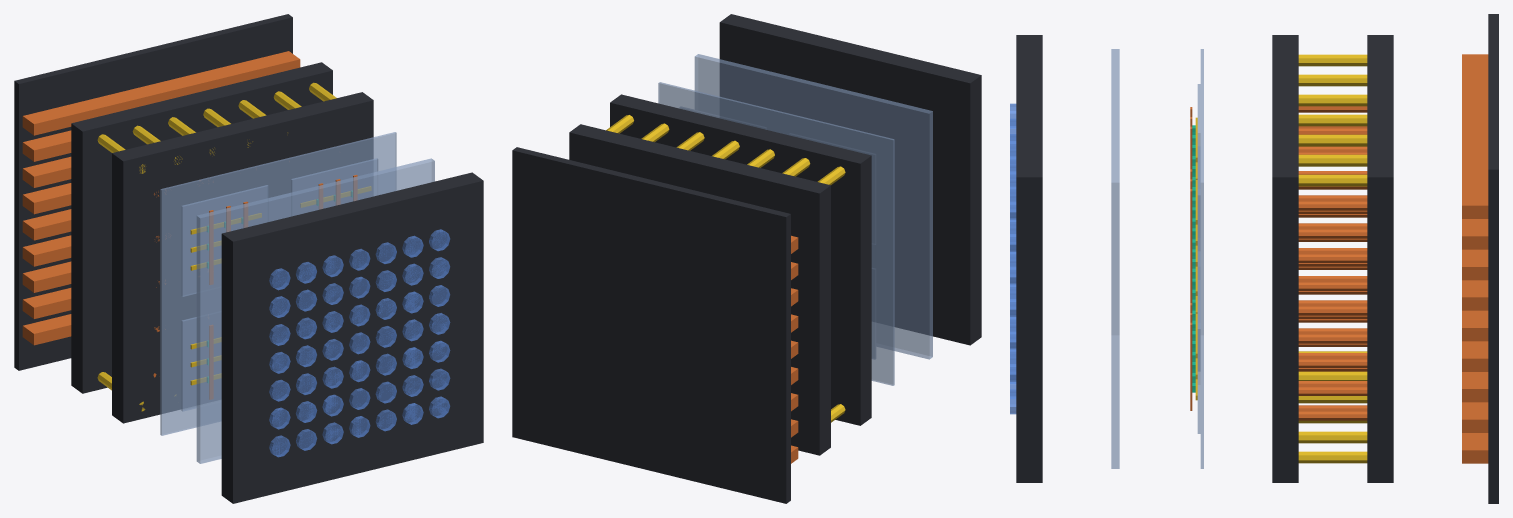
File: neurostack_model.obj
3 renders of one model, left to right at view 1: azimuth 30°, elevation 25°; view 2: azimuth 150°, elevation 25°; view 3: azimuth 270°, elevation 25°, orthographic. The views are drawn at different scales.
Parts seen in each view (by area): view 1: Tier0_DVS_Sensor_Die, Tier2_Soma_Logic_Die, Tier3_AER_Deflection_Router_Die, AlN_Thermal_Spreader_Plate, Base_Silicon_Carrier, Interface_HybridBonding, Cooling_Fin_4, SubMat_Bed_3, SubMat_Bed_1, SubMat_Bed_4, Cooling_Fin_-1, Cooling_Fin_0 (+6 smaller); view 2: Base_Silicon_Carrier, Tier0_DVS_Sensor_Die, Interface_HybridBonding, Tier3_AER_Deflection_Router_Die, Tier2_Soma_Logic_Die, AlN_Thermal_Spreader_Plate, SubMat_Bed_3; view 3: Tier3_AER_Deflection_Router_Die, Tier2_Soma_Logic_Die, Tier0_DVS_Sensor_Die, Base_Silicon_Carrier, Cooling_Fin_4, Interface_HybridBonding, AlN_Thermal_Spreader_Plate, TRV_Thermal_Via_Y1_1, TRV_Thermal_Via_Y1_2, TRV_Thermal_Via_Y1_3, TRV_Thermal_Via_Y1_-3, TRV_Thermal_Via_Y1_-2 (+25 smaller).
Part boxes in pixels (x1,y1,x2,y2): Tier0_DVS_Sensor_Die: [221, 172, 483, 503]; Tier2_Soma_Logic_Die: [112, 92, 373, 423]; Tier3_AER_Deflection_Router_Die: [71, 62, 332, 393]; AlN_Thermal_Spreader_Plate: [160, 132, 396, 435]; Base_Silicon_Carrier: [14, 14, 292, 370]; Interface_HybridBonding: [196, 158, 434, 463]; Cooling_Fin_4: [22, 51, 300, 135]; SubMat_Bed_3: [181, 185, 268, 296]; SubMat_Bed_1: [181, 311, 220, 411]; SubMat_Bed_4: [291, 158, 378, 215]; Cooling_Fin_-1: [22, 235, 71, 266]; Cooling_Fin_0: [22, 209, 71, 240]; Base_Silicon_Carrier: [512, 147, 790, 503]; Tier0_DVS_Sensor_Die: [719, 14, 981, 345]; Interface_HybridBonding: [694, 54, 932, 359]; Tier3_AER_Deflection_Router_Die: [569, 124, 830, 455]; Tier2_Soma_Logic_Die: [610, 94, 871, 425]; AlN_Thermal_Spreader_Plate: [658, 82, 894, 385]; SubMat_Bed_3: [789, 133, 875, 244]; Tier3_AER_Deflection_Router_Die: [1367, 35, 1393, 482]; Tier2_Soma_Logic_Die: [1272, 35, 1298, 482]; Tier0_DVS_Sensor_Die: [1016, 35, 1042, 482]; Base_Silicon_Carrier: [1488, 14, 1498, 503]; Cooling_Fin_4: [1462, 54, 1488, 218]; Interface_HybridBonding: [1111, 49, 1119, 468]; AlN_Thermal_Spreader_Plate: [1200, 49, 1203, 468]; TRV_Thermal_Via_Y1_1: [1298, 134, 1367, 146]; TRV_Thermal_Via_Y1_2: [1298, 154, 1367, 166]; TRV_Thermal_Via_Y1_3: [1298, 174, 1367, 186]; TRV_Thermal_Via_Y1_-3: [1298, 54, 1367, 66]; TRV_Thermal_Via_Y1_-2: [1298, 74, 1367, 86].
Bounding box in the file's own units: 35 × 35 × 46.4.
